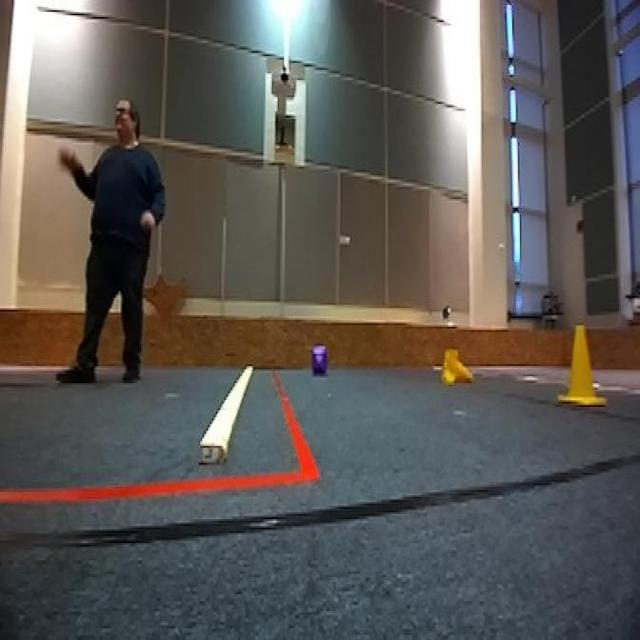frc_cone: (559, 322, 600, 412), (437, 346, 472, 386)
frc_cube: (308, 345, 328, 378)
